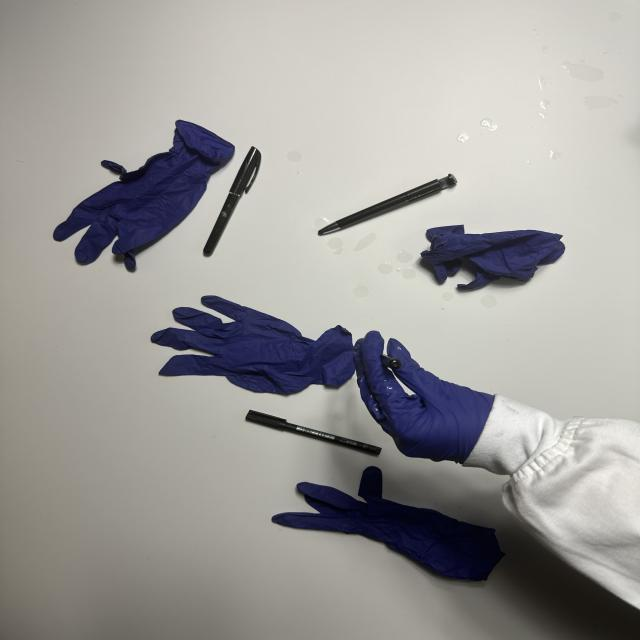gloves_contaminated: (355, 331, 494, 463)
